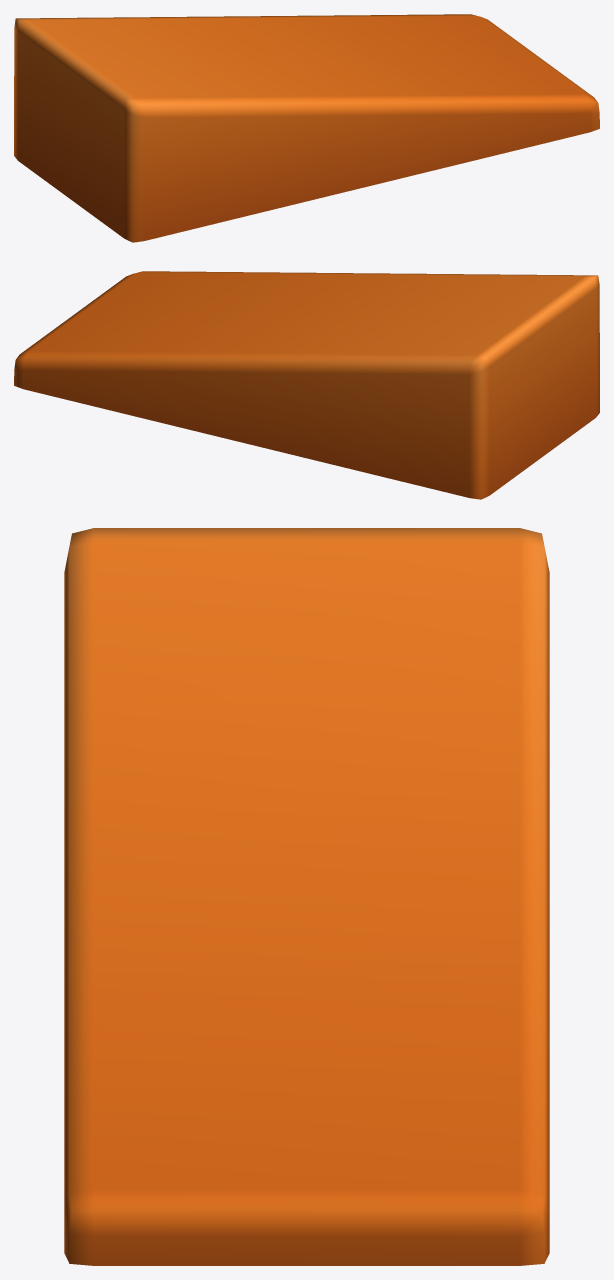
File: Long_Ramp.fbx
The picture shows the model from 3 angles, top to bottom: view 1: azimuth 30°, elevation 25°; view 2: azimuth 150°, elevation 25°; view 3: azimuth 270°, elevation 25°; orthographic projection. The views are drawn at different scales.
Visible parts, largest first — view 1: Plane.048; view 2: Plane.048; view 3: Plane.048.
Boxes of the visible parts, left/top/right/bottom form: Plane.048: left=14, top=14, right=599, bottom=242; Plane.048: left=14, top=271, right=599, bottom=499; Plane.048: left=64, top=528, right=549, bottom=1265.
Size of the model in its own units: 340 by 96.19 by 151.
